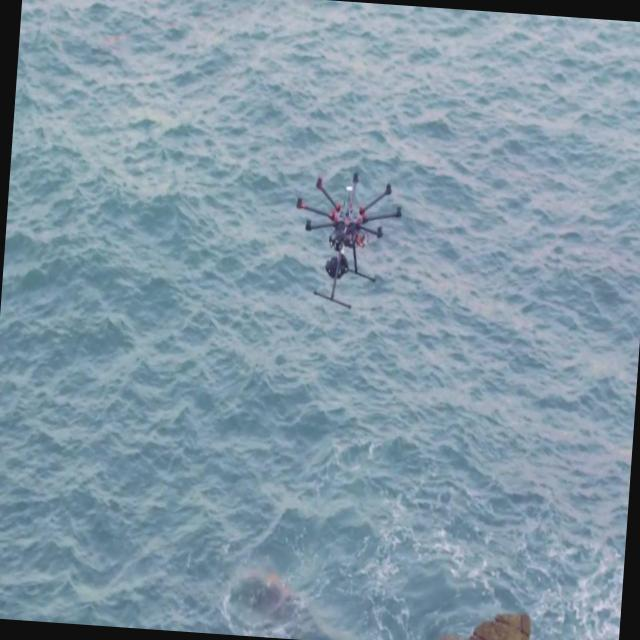drone: (285, 162, 406, 315)
